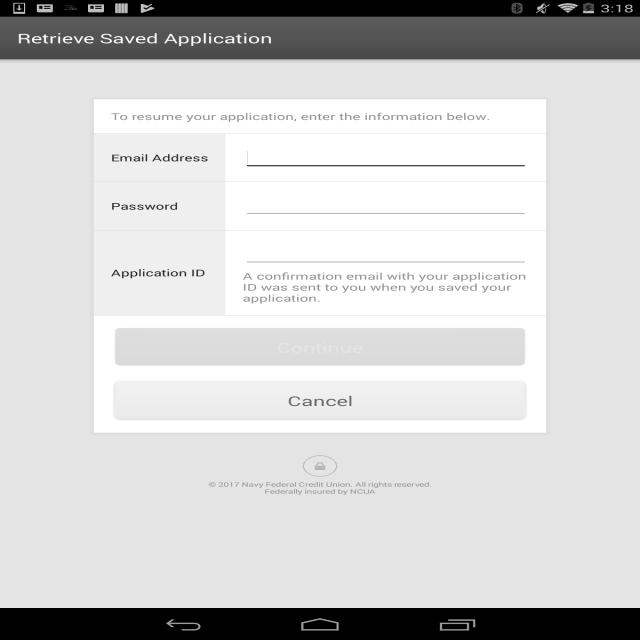Button: (111, 326, 529, 369), (111, 379, 529, 422)
EditText: (243, 144, 529, 171), (243, 241, 529, 268), (243, 193, 529, 219)
ImageView: (303, 455, 337, 477), (94, 133, 546, 134), (94, 182, 546, 182), (94, 230, 546, 230), (94, 315, 546, 315)
TextView: (94, 100, 546, 134), (243, 268, 529, 304), (17, 29, 273, 47), (94, 140, 225, 174), (94, 189, 225, 223), (94, 256, 225, 290), (206, 480, 434, 495)
